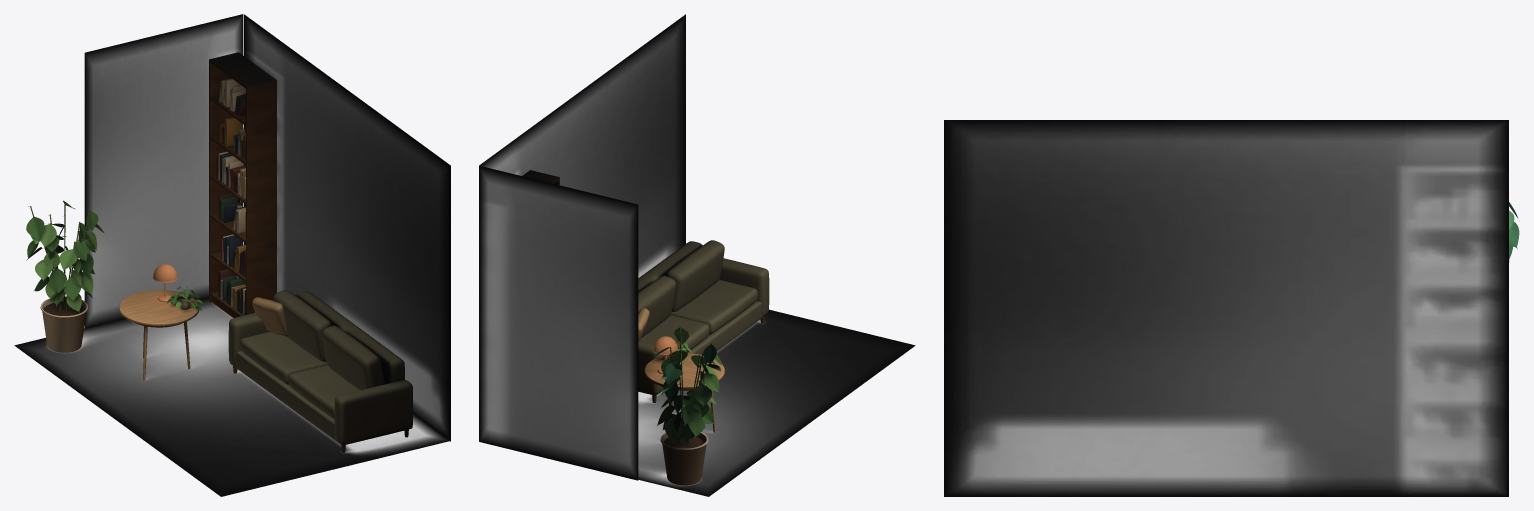
The model's file is contact-zone.glb.
The picture shows the model from 3 angles, left to right: view 1: azimuth 30°, elevation 25°; view 2: azimuth 150°, elevation 25°; view 3: azimuth 270°, elevation 25°; orthographic projection. The views are drawn at different scales.
Visible parts, largest first — view 1: wall_right_shadow, wall_back_shadow, floor_shadow, sofa, bookshelf, floor_plant, side_table, lamp_copper; view 2: wall_back_shadow, wall_right_shadow, floor_shadow, sofa, floor_plant, side_table; view 3: wall_right_shadow.
Boxes of the visible parts, <box> form: wall_right_shadow: <box>244,14,450,441</box>; wall_back_shadow: <box>84,14,243,327</box>; floor_shadow: <box>14,298,449,496</box>; sofa: <box>228,290,412,452</box>; bookshelf: <box>209,52,276,317</box>; floor_plant: <box>26,200,104,352</box>; side_table: <box>119,290,199,380</box>; lamp_copper: <box>153,264,177,301</box>; wall_back_shadow: <box>479,166,638,480</box>; wall_right_shadow: <box>479,14,685,441</box>; floor_shadow: <box>638,309,915,496</box>; sofa: <box>638,240,769,402</box>; floor_plant: <box>654,327,722,485</box>; side_table: <box>644,353,724,432</box>; wall_right_shadow: <box>944,120,1508,496</box>.
Size of the model in its own units: 2.79 by 3.18 by 4.4.
Materials: 10 (8 with a texture image).
